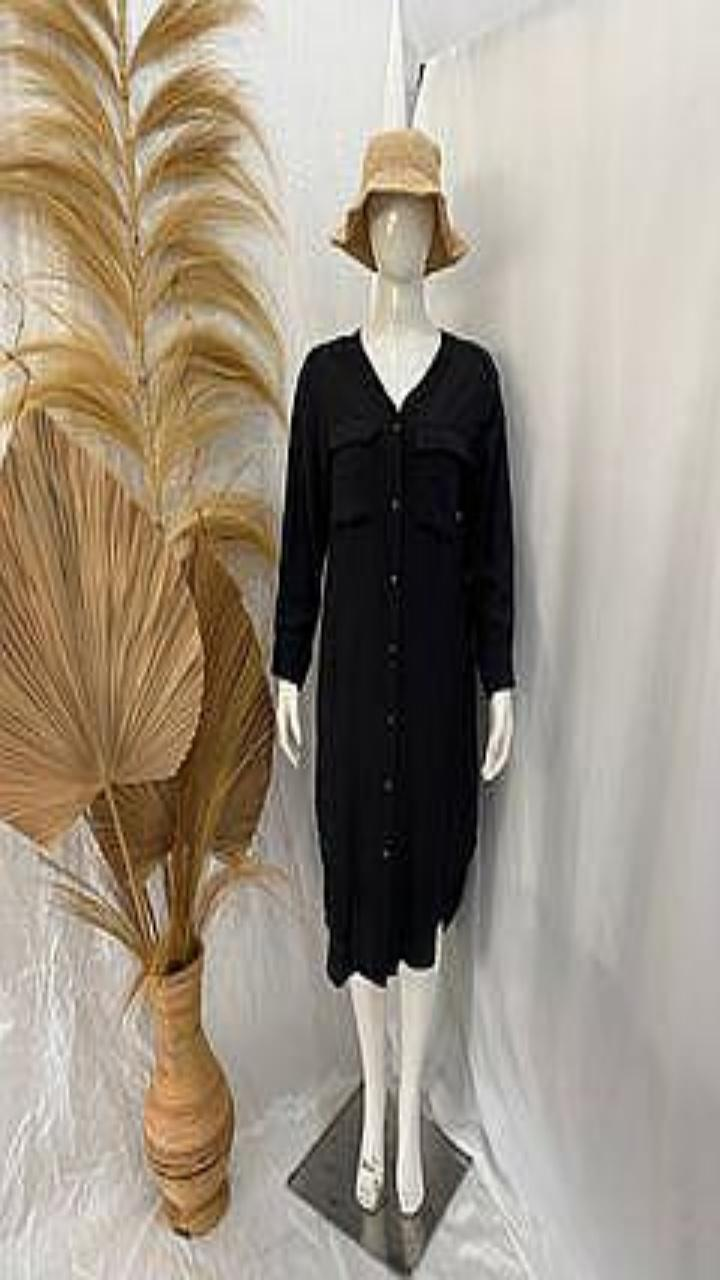Dresses: (271, 329, 514, 985)
